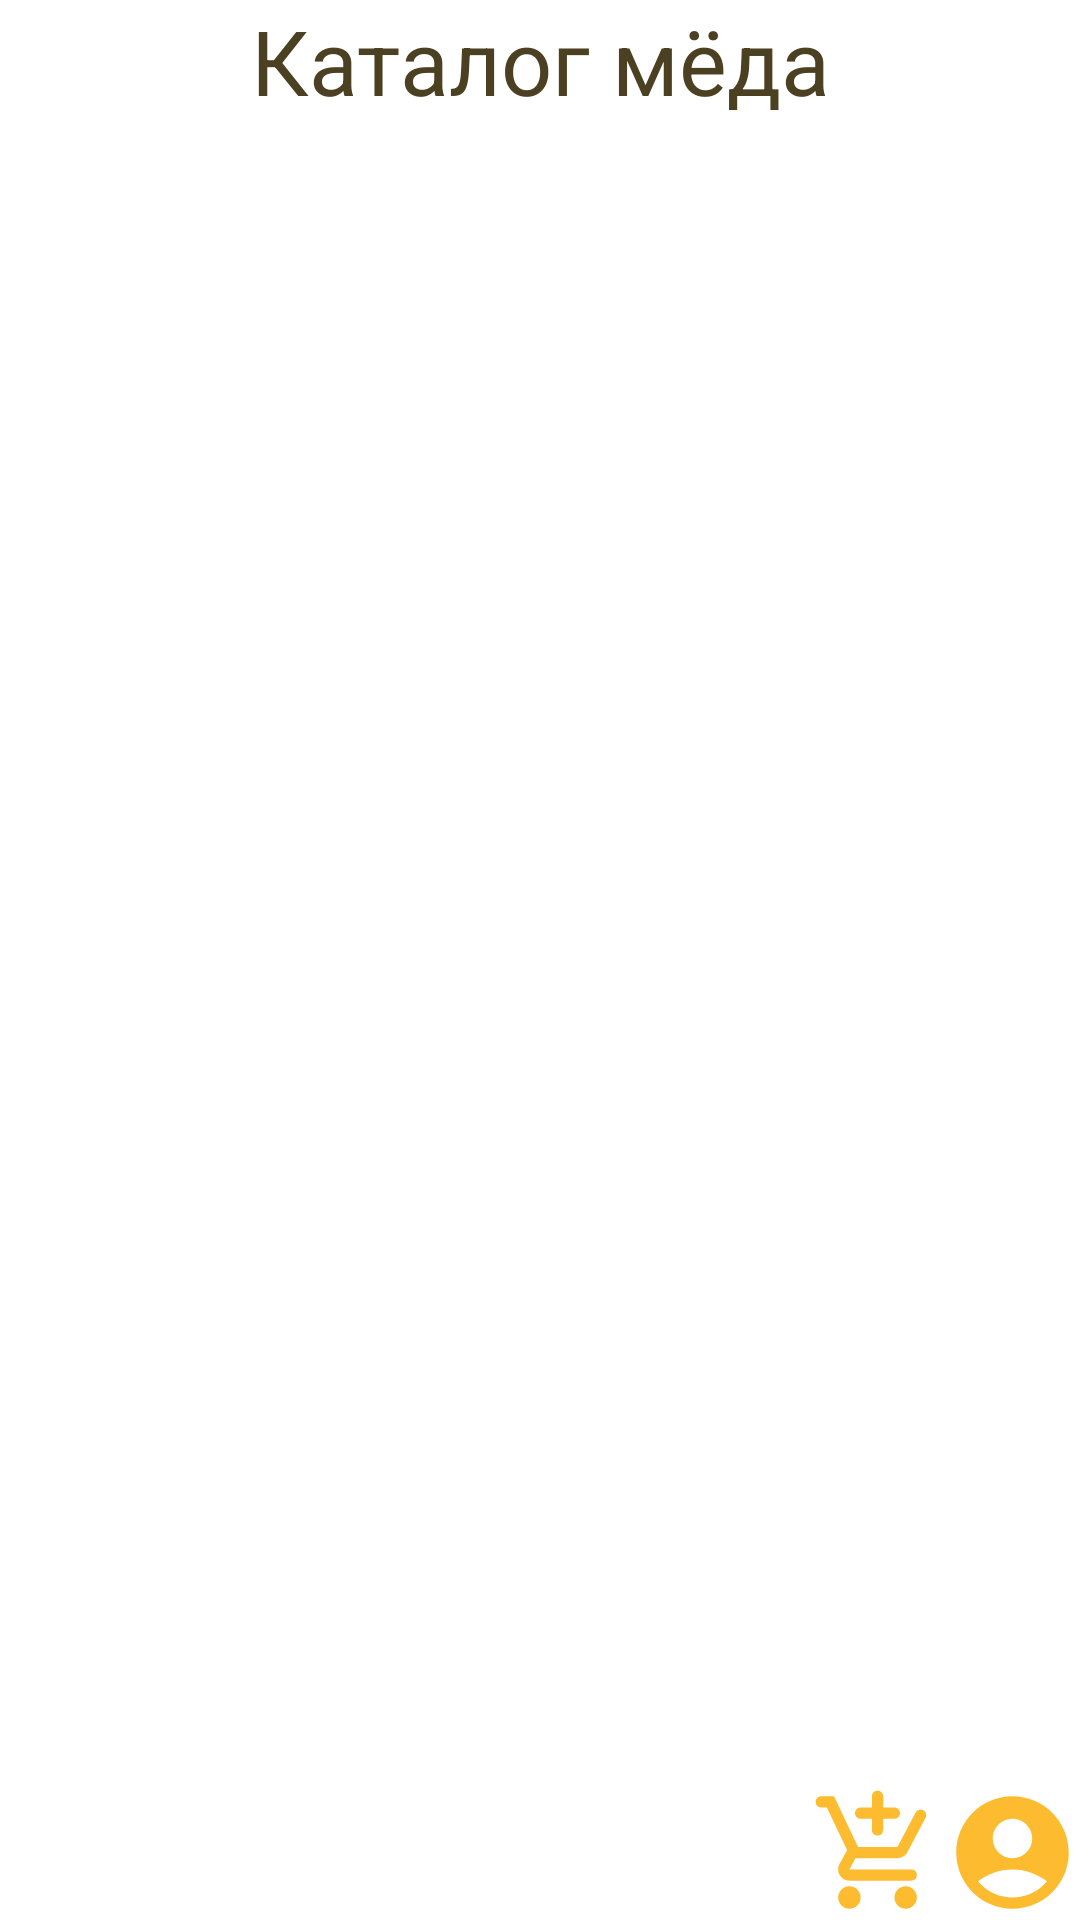

Screen size 1080 × 1920. Icon name, then its box in pixels as (x1, y1, x2, y2):
cart: (815, 1790, 927, 1909)
User: (956, 1796, 1069, 1909)
